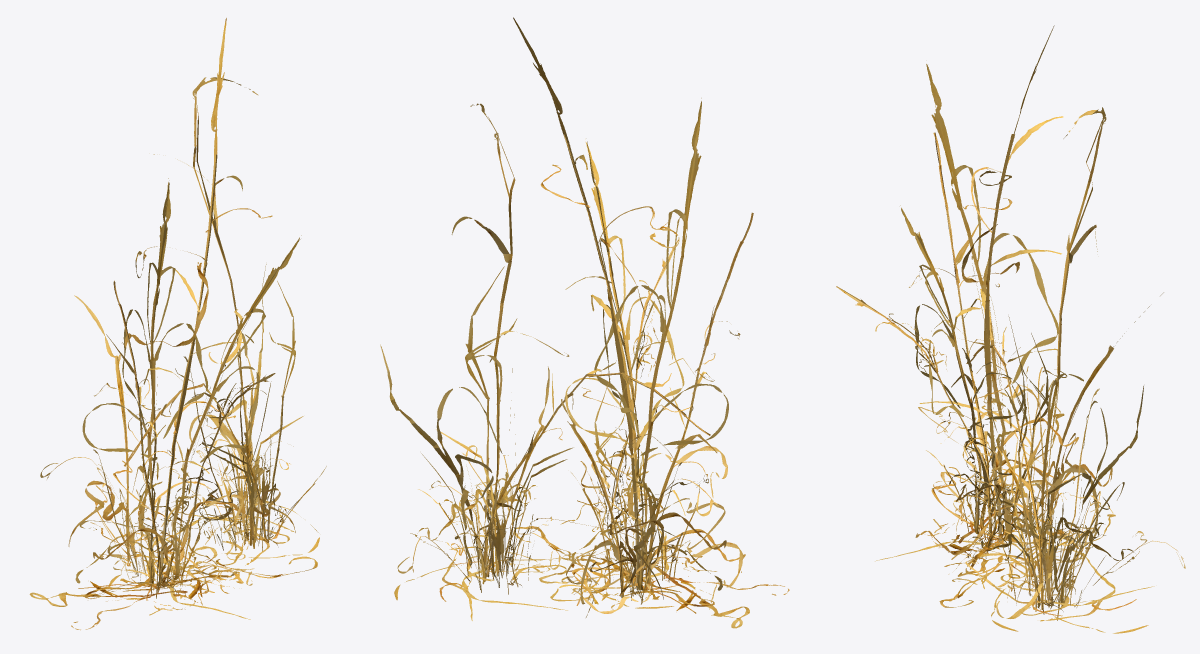
Rendered from bugday.glb.
3 renders of one model, left to right at view 1: azimuth 30°, elevation 25°; view 2: azimuth 150°, elevation 25°; view 3: azimuth 270°, elevation 25°, orthographic. The views are drawn at different scales.
Visible parts, largest first — view 1: bugday; view 2: bugday; view 3: bugday.
Part boxes in pixels (x1,y1,x2,y2): bugday: [29, 18, 326, 630]; bugday: [380, 17, 789, 628]; bugday: [836, 25, 1185, 633].
Size of the model in its own units: 0.5828 by 1 by 0.5427.
1 material, 1 textured.
